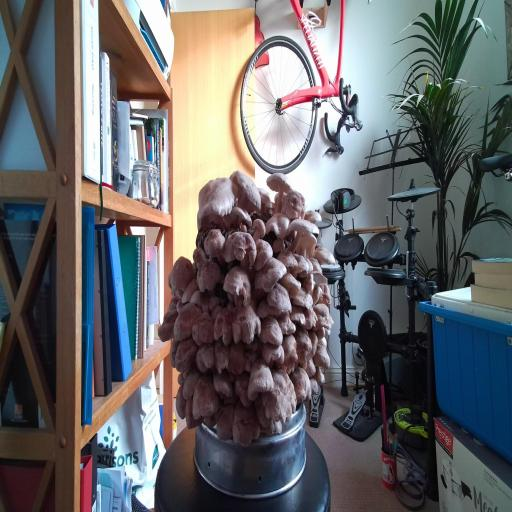Shiitake Mushroom: (249, 359, 311, 440), (215, 165, 276, 220), (188, 173, 246, 223), (244, 247, 296, 302), (241, 393, 292, 449), (164, 291, 208, 351), (156, 249, 205, 301), (219, 220, 262, 278), (152, 293, 190, 350), (219, 259, 257, 313), (263, 162, 298, 215), (241, 353, 277, 403), (241, 231, 282, 273), (259, 278, 302, 317), (189, 371, 220, 421), (231, 400, 262, 450), (230, 302, 263, 348), (175, 394, 209, 438), (273, 264, 308, 302), (171, 334, 202, 376), (271, 241, 305, 278), (176, 361, 204, 405), (296, 264, 333, 297), (288, 362, 314, 407), (292, 224, 320, 265), (280, 185, 308, 225), (286, 284, 320, 315), (175, 275, 204, 308), (212, 305, 235, 346), (190, 310, 215, 347), (250, 392, 273, 432), (196, 257, 222, 292), (294, 323, 314, 365), (215, 401, 235, 442), (284, 302, 314, 329), (253, 294, 284, 320), (265, 209, 291, 239), (259, 315, 284, 346), (204, 228, 225, 263), (261, 340, 285, 369), (276, 309, 298, 339), (227, 340, 245, 376), (282, 334, 298, 374), (310, 245, 339, 267), (234, 371, 251, 408), (186, 242, 211, 267), (195, 343, 215, 374), (213, 339, 230, 374), (292, 253, 314, 279), (189, 287, 211, 313), (173, 382, 188, 420), (266, 233, 290, 256), (301, 303, 320, 332), (230, 205, 252, 230), (309, 364, 330, 390), (306, 253, 327, 279), (213, 370, 233, 397), (257, 184, 274, 215), (314, 303, 334, 329), (166, 336, 181, 369), (250, 215, 268, 242), (202, 291, 225, 312), (313, 343, 331, 369), (199, 412, 221, 432), (302, 356, 319, 381), (318, 282, 333, 307), (312, 324, 330, 342), (308, 330, 319, 358), (304, 209, 322, 223), (310, 377, 319, 396), (318, 336, 328, 348)
